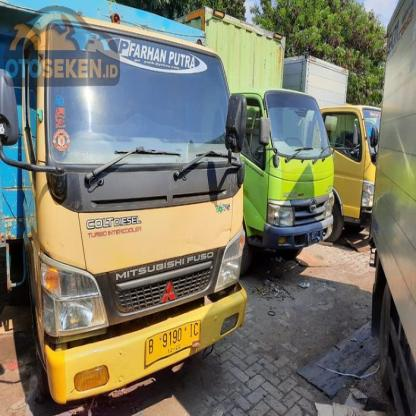truck: (1, 1, 249, 409), (177, 1, 333, 274)
